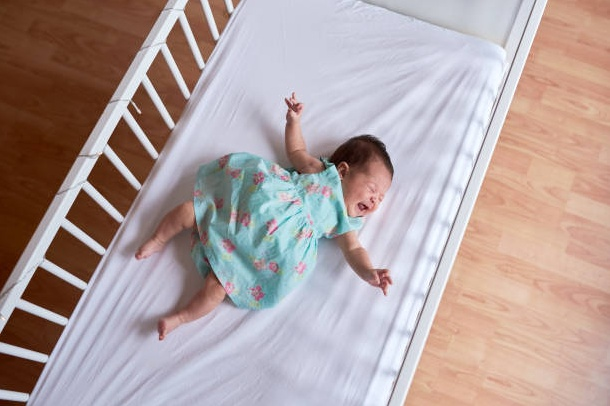baby: (135, 93, 392, 339)
crib: (0, 0, 544, 404)
